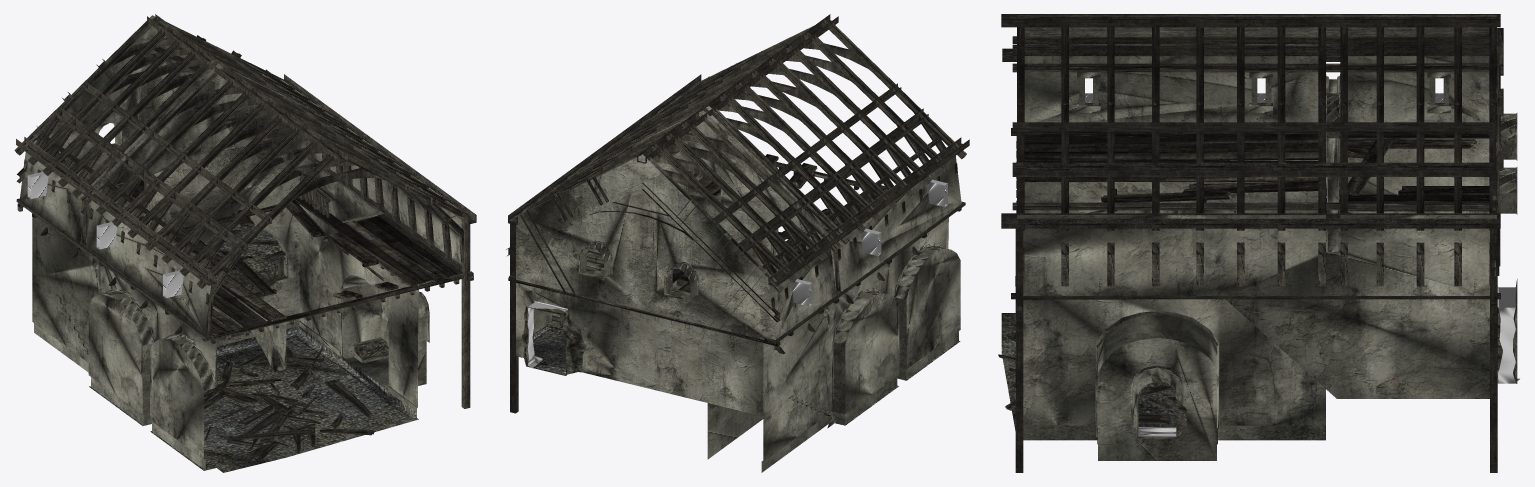
3 renders of one model, left to right at view 1: azimuth 30°, elevation 25°; view 2: azimuth 150°, elevation 25°; view 3: azimuth 270°, elevation 25°, orthographic. The views are drawn at different scales.
Visible parts, largest first — view 1: mesh2, mesh0, mesh3, mesh5, mesh9, mesh1; view 2: mesh2, mesh0, mesh5, mesh1, mesh6, mesh3, mesh7; view 3: mesh2, mesh0, mesh5, mesh3, mesh1, mesh6.
Part boxes in pixels (x1=…): mesh2: x1=19, y1=15, x2=461, y2=469; mesh0: x1=14, y1=14, x2=476, y2=462; mesh3: x1=89, y1=226, x2=463, y2=472; mesh5: x1=17, y1=180, x2=473, y2=343; mesh9: x1=205, y1=250, x2=416, y2=469; mesh1: x1=27, y1=171, x2=183, y2=298; mesh2: x1=516, y1=80, x2=961, y2=472; mesh0: x1=506, y1=14, x2=969, y2=413; mesh5: x1=508, y1=154, x2=961, y2=350; mesh1: x1=527, y1=179, x2=947, y2=365; mesh6: x1=521, y1=301, x2=586, y2=375; mesh3: x1=526, y1=331, x2=960, y2=425; mesh7: x1=547, y1=247, x2=833, y2=416; mesh2: x1=1017, y1=56, x2=1517, y2=460; mesh0: x1=998, y1=14, x2=1503, y2=472; mesh5: x1=1015, y1=133, x2=1496, y2=311; mesh3: x1=1001, y1=313, x2=1325, y2=440; mesh1: x1=1085, y1=93, x2=1515, y2=436; mesh6: x1=1497, y1=279, x2=1517, y2=383.
Bounding box in the file's own units: 11.32 × 11.06 × 13.94.
